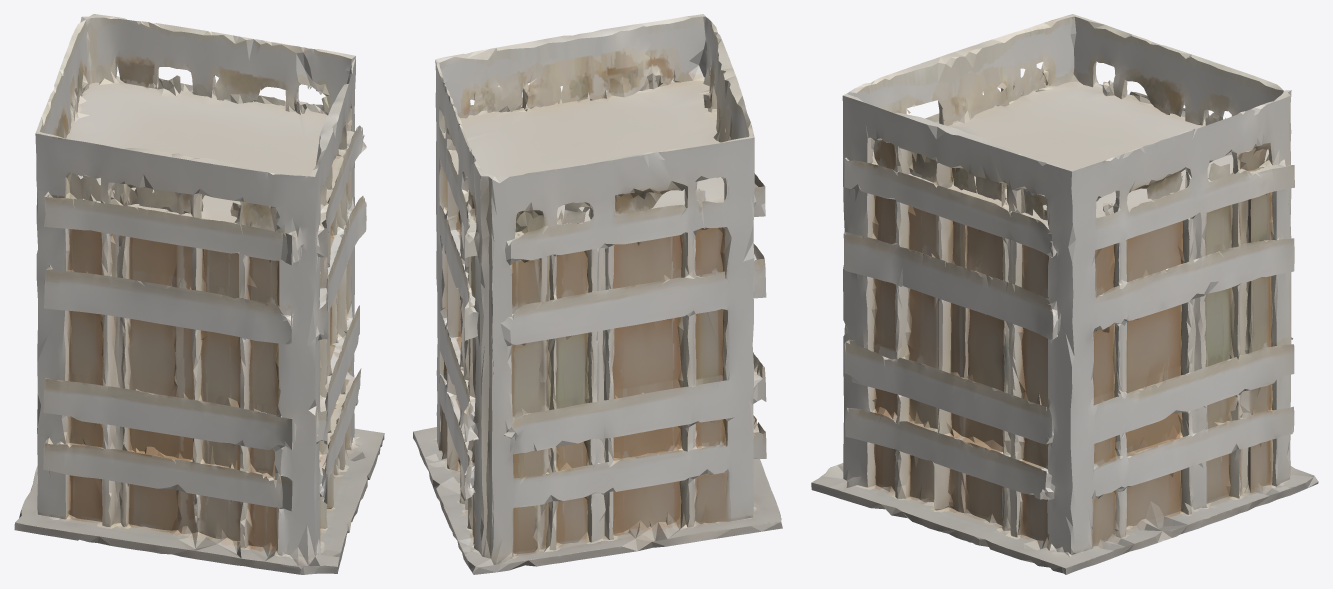
Rendered from modern_building.gltf.
The picture shows the model from 3 angles, left to right: view 1: azimuth 30°, elevation 25°; view 2: azimuth 150°, elevation 25°; view 3: azimuth 270°, elevation 25°; orthographic projection.
Parts seen in each view (by area): view 1: ModernBuilding; view 2: ModernBuilding; view 3: ModernBuilding.
Boxes of the visible parts, <box> form: ModernBuilding: <box>14,14,384,574</box>; ModernBuilding: <box>413,14,782,574</box>; ModernBuilding: <box>811,14,1318,574</box>.
Bounding box in the file's own units: 6.44 × 6.47 × 7.58.
1 material, 1 textured.
